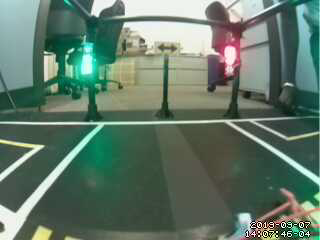Left_Right_sign: (149, 37, 184, 57)
Traffic_light_green: (81, 42, 94, 79)
Traffic_light_red: (223, 34, 236, 78)
